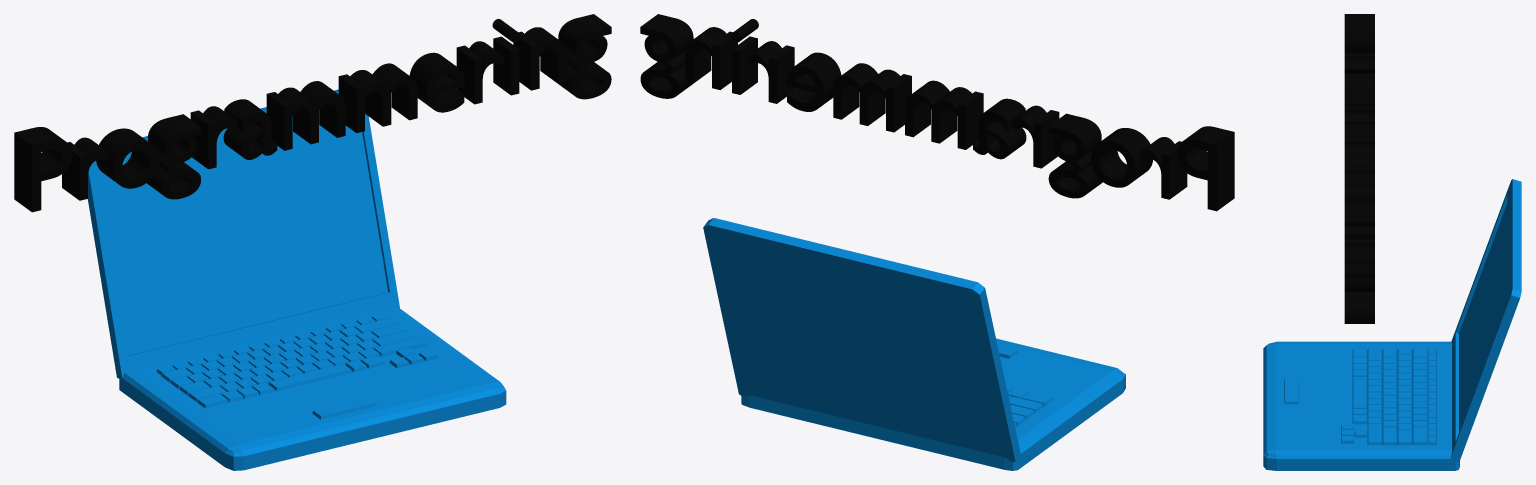
File: laptop.glb
3 renders of one model, left to right at view 1: azimuth 30°, elevation 25°; view 2: azimuth 150°, elevation 25°; view 3: azimuth 270°, elevation 25°, orthographic. The views are drawn at different scales.
Visible parts, largest first — view 1: imagetostl_mesh, Text; view 2: imagetostl_mesh, Text; view 3: imagetostl_mesh, Text.
Boxes of the visible parts, x1,y1,x2,y2 form: imagetostl_mesh: (88, 89, 506, 470); Text: (14, 14, 611, 212); imagetostl_mesh: (703, 218, 1125, 470); Text: (640, 14, 1234, 211); imagetostl_mesh: (1263, 179, 1521, 470); Text: (1344, 14, 1374, 323).
Bounding box in the file's own units: 124 × 67.57 × 56.52.
